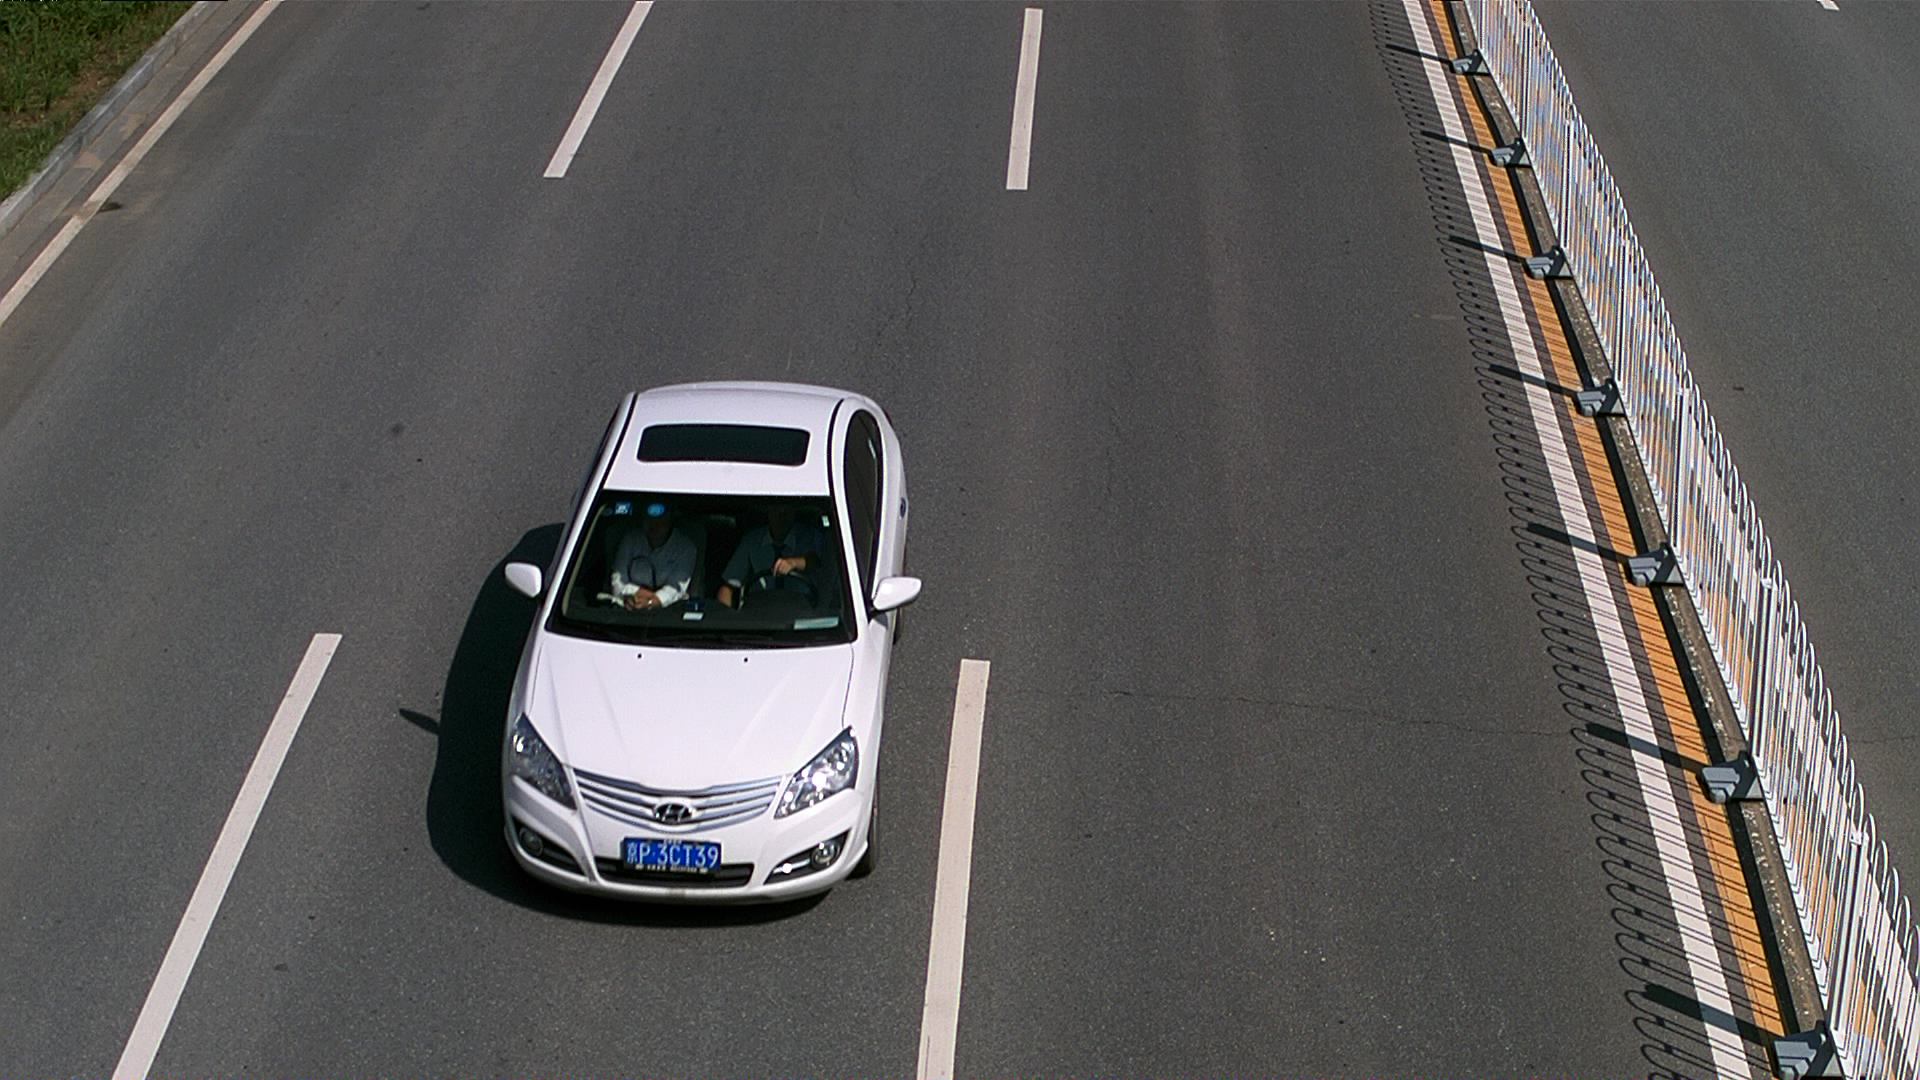car: (469, 365, 935, 941)
